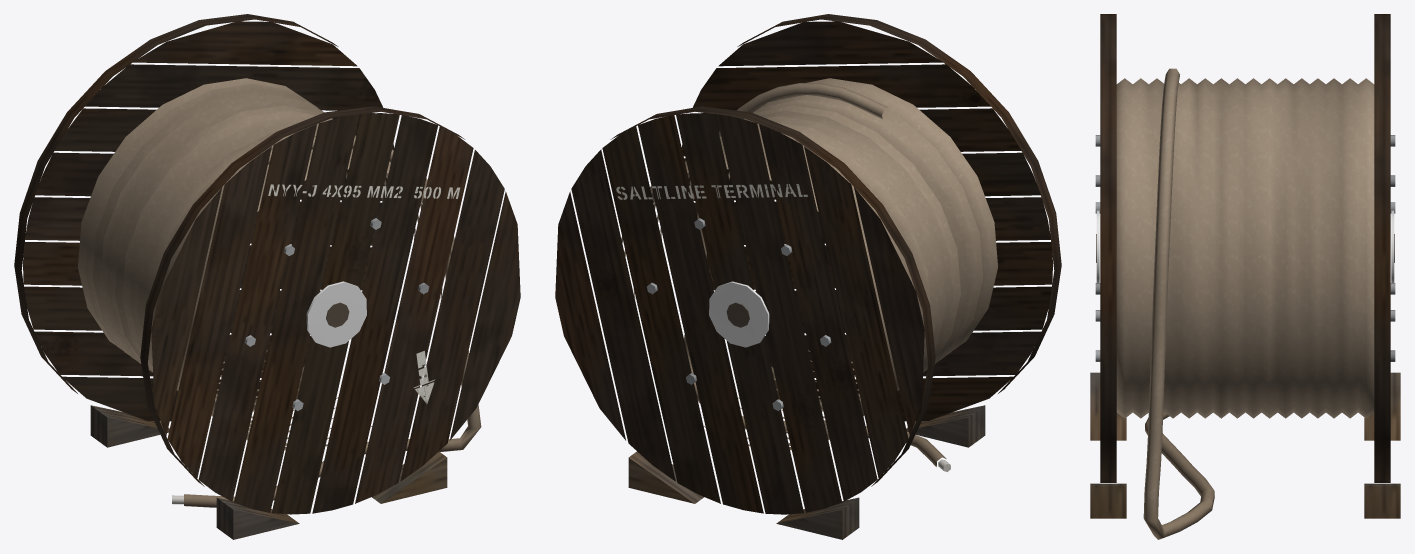
Rendered from cable_reel.glb.
The picture shows the model from 3 angles, left to right: view 1: azimuth 30°, elevation 25°; view 2: azimuth 150°, elevation 25°; view 3: azimuth 270°, elevation 25°; orthographic projection. The views are drawn at different scales.
Visible parts, largest first — view 1: cable_reel; view 2: cable_reel; view 3: cable_reel.
Boxes of the visible parts, x1,y1,x2,y2 form: cable_reel: (14, 14, 520, 539); cable_reel: (555, 14, 1061, 539); cable_reel: (1090, 14, 1400, 539).
Bounding box in the file's own units: 1.3 × 1.3 × 0.855.
Materials: 10 (10 with a texture image).
